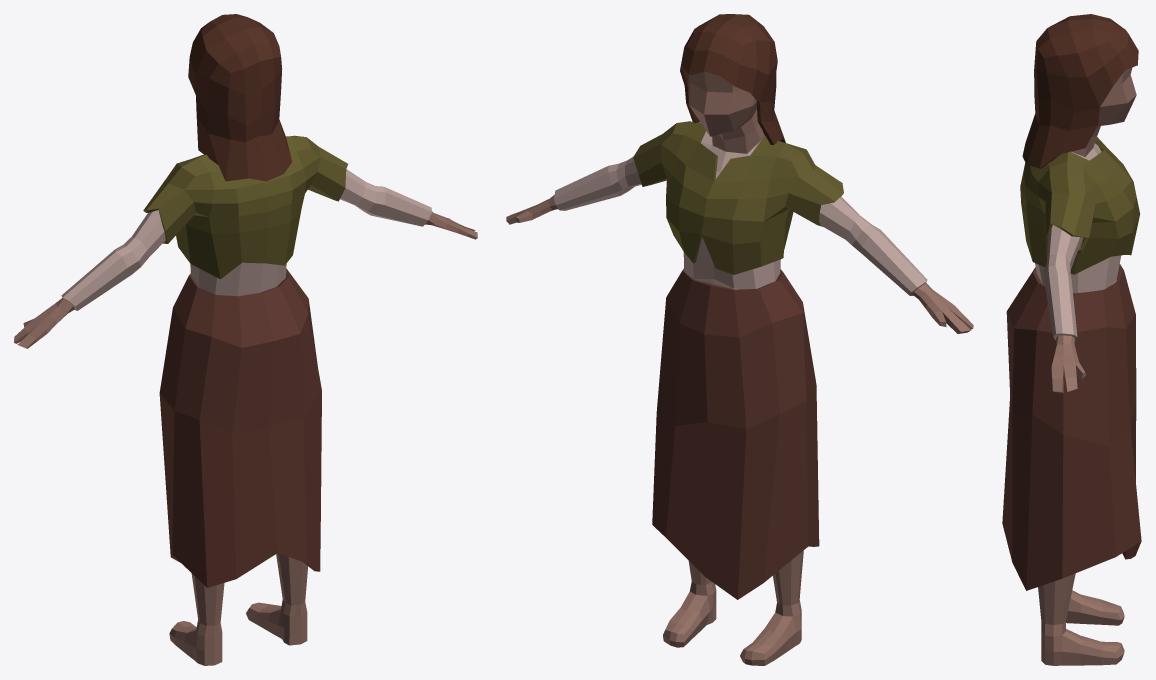
File: Peasant_Archer.fbx
3 renders of one model, left to right at view 1: azimuth 30°, elevation 25°; view 2: azimuth 150°, elevation 25°; view 3: azimuth 270°, elevation 25°, orthographic.
Parts seen in each view (by area): view 1: body; view 2: body; view 3: body.
Part boxes in pixels (x1,y1,x2,y2): body: [14, 14, 477, 665]; body: [506, 14, 973, 665]; body: [1002, 14, 1141, 665].
Size of the model in its own units: 0.7463 by 0.1941 by 0.9553.
